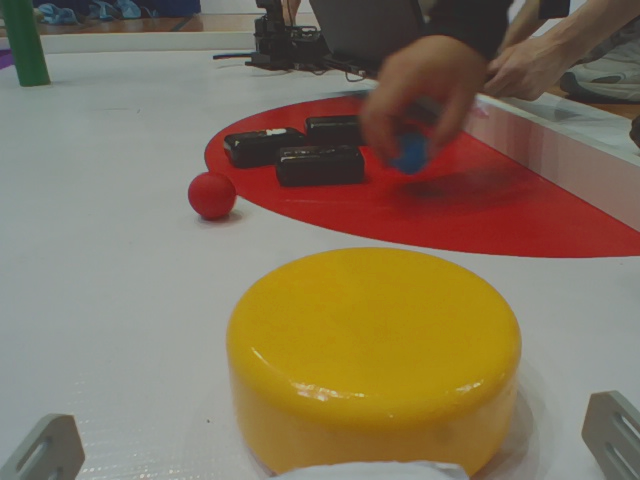black: (269, 145, 398, 191), (215, 121, 317, 166), (304, 111, 411, 140)
blue: (377, 121, 458, 182)
kuang: (1, 41, 20, 77)
red: (183, 171, 254, 223)
yellow: (215, 245, 543, 471)
zhuzi: (1, 1, 62, 95)
